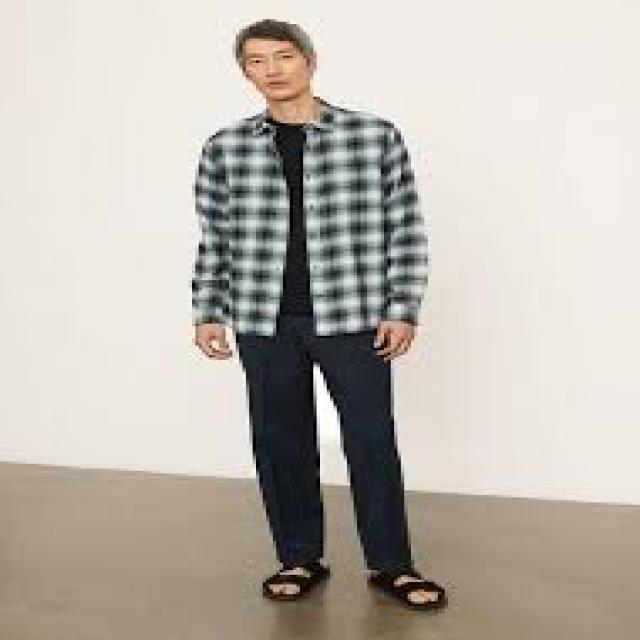plaid: (178, 109, 429, 339)
